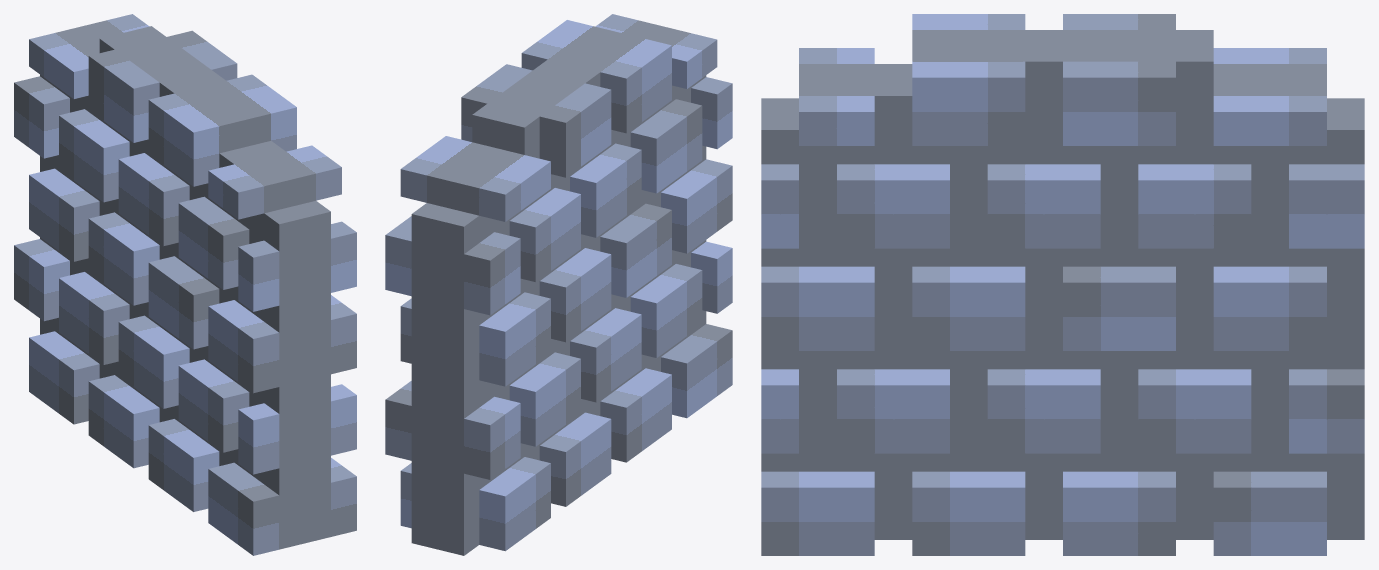
Rendered from wall_frosty.fbx.
The picture shows the model from 3 angles, left to right: view 1: azimuth 30°, elevation 25°; view 2: azimuth 150°, elevation 25°; view 3: azimuth 270°, elevation 25°; orthographic projection. The views are drawn at different scales.
Parts seen in each view (by area): view 1: wall_frosty.001; view 2: wall_frosty.001; view 3: wall_frosty.001.
Part boxes in pixels (box(x1,y1,x2,y2)): wall_frosty.001: box(14, 14, 356, 555); wall_frosty.001: box(385, 14, 732, 555); wall_frosty.001: box(761, 14, 1364, 555).
Size of the model in its own units: 0.4 by 1.4 by 1.6.
1 material, 1 textured.
